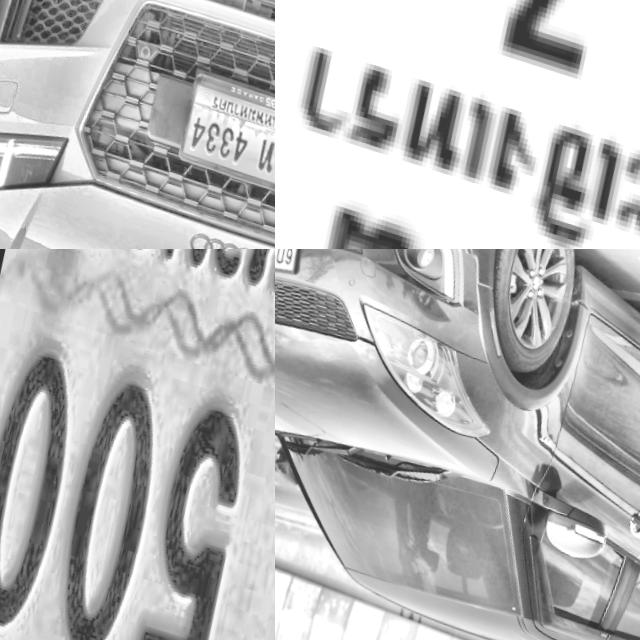license-plate: (0, 249, 275, 640), (275, 0, 640, 249), (169, 61, 275, 191)
